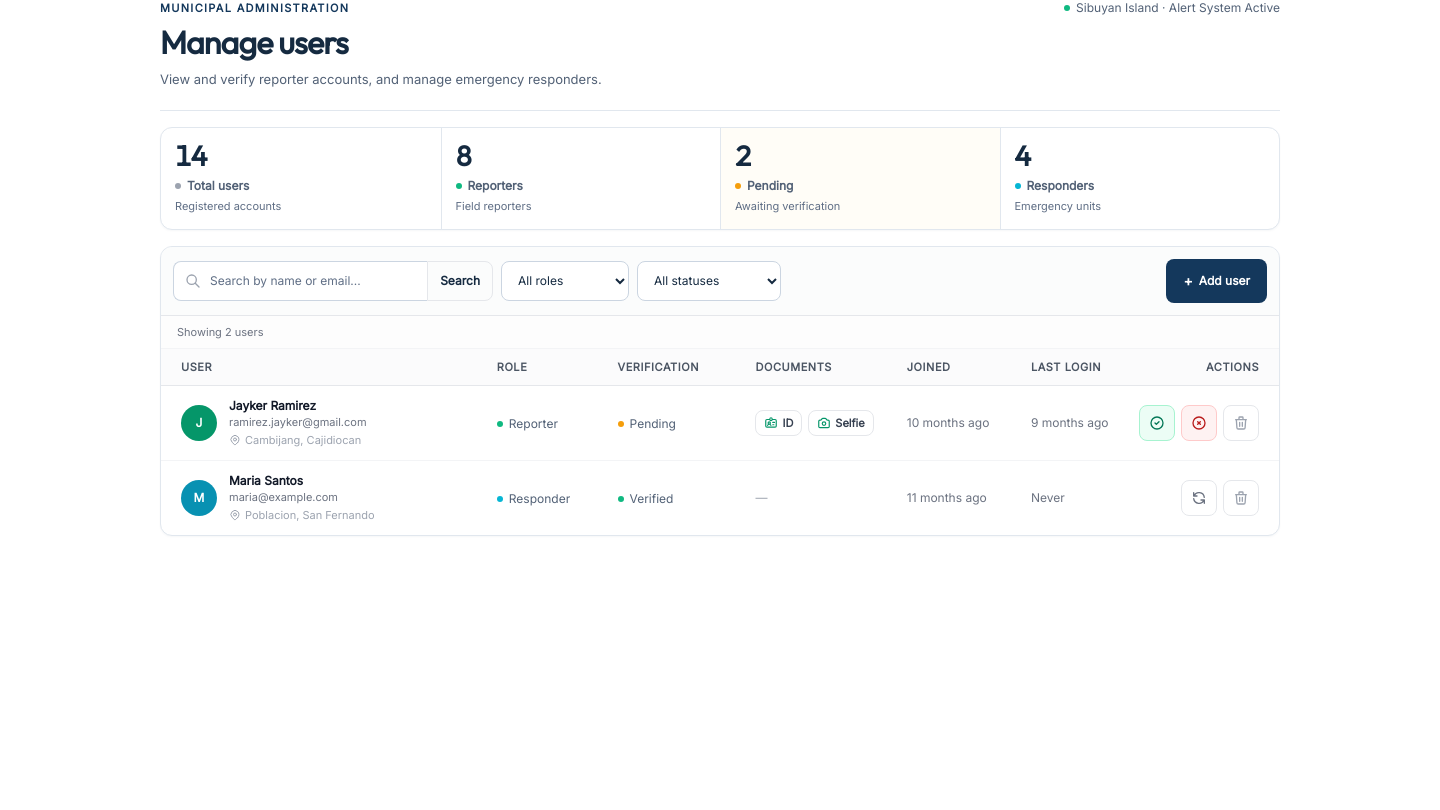
AdminUsersPage › add responder › offers only the agencies a new responder may be given
The width and height of the screenshot is (1440, 810).
Click the button with aria-label "Add a user account". click: (1217, 281)
box: [1166,259,1267,303]
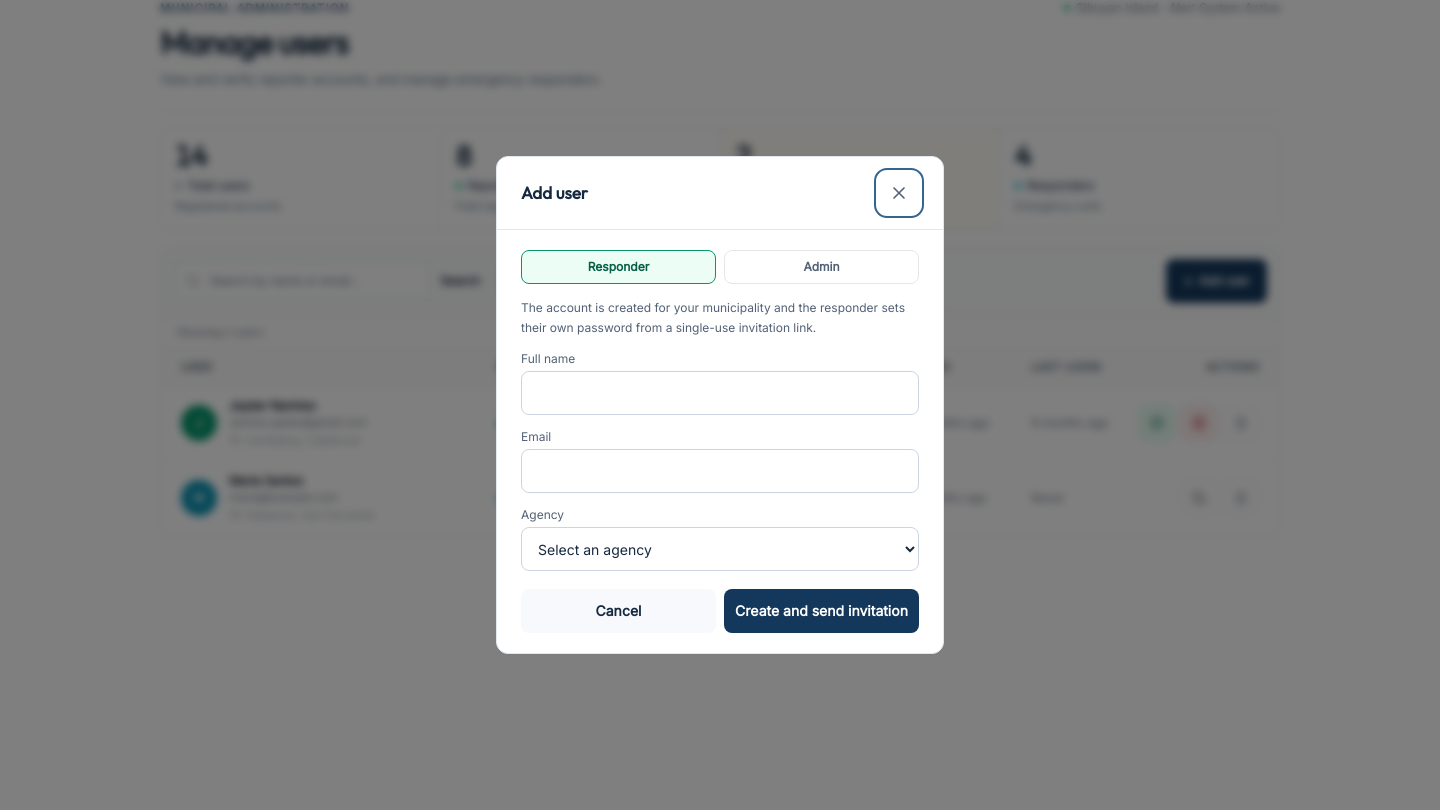
Now the heading "Add user" is shown, box [521,181,588,205]
